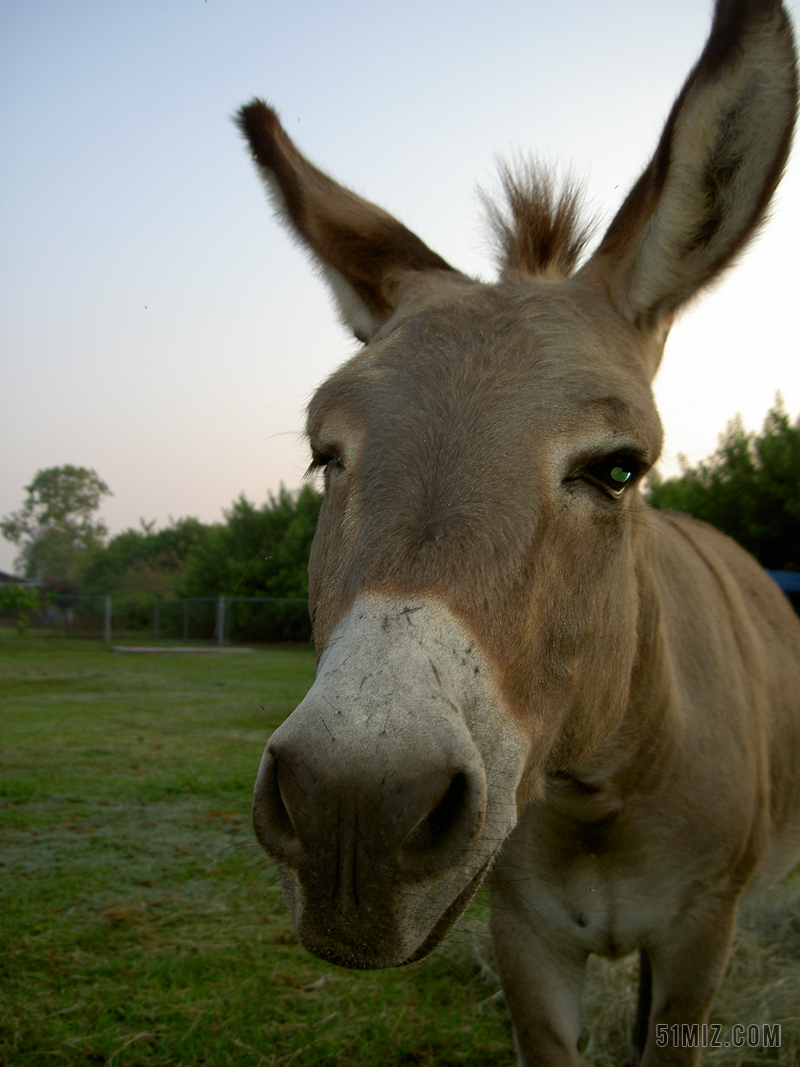background: (235, 61, 800, 1056)
